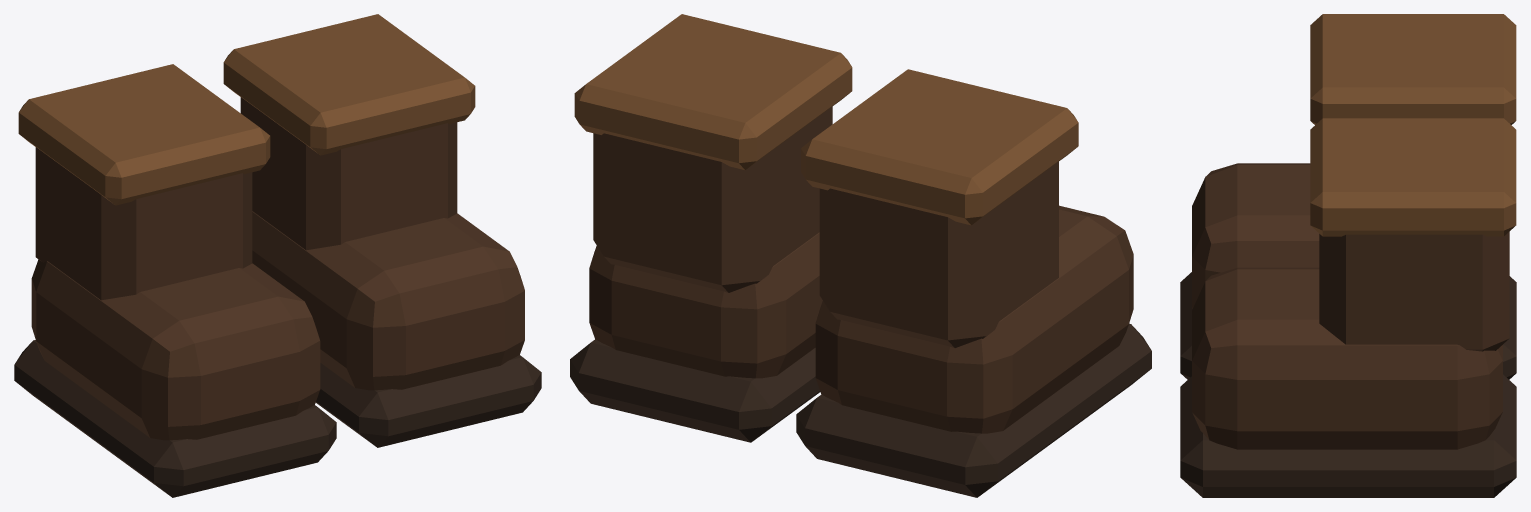
File: SM_NPC_Feet_01_Boots.glb
3 views of the same model, side by side, from view 1: azimuth 30°, elevation 25°; view 2: azimuth 150°, elevation 25°; view 3: azimuth 270°, elevation 25° (orthographic). The views are drawn at different scales.
Visible parts, largest first — view 1: SM_NPC_Feet_01_Boots; view 2: SM_NPC_Feet_01_Boots; view 3: SM_NPC_Feet_01_Boots.
Boxes of the visible parts, x1,y1,x2,y2 form: SM_NPC_Feet_01_Boots: [14, 14, 541, 497]; SM_NPC_Feet_01_Boots: [570, 14, 1151, 497]; SM_NPC_Feet_01_Boots: [1180, 14, 1516, 497].
Size of the model in its own units: 0.454 by 0.328 by 0.327.
